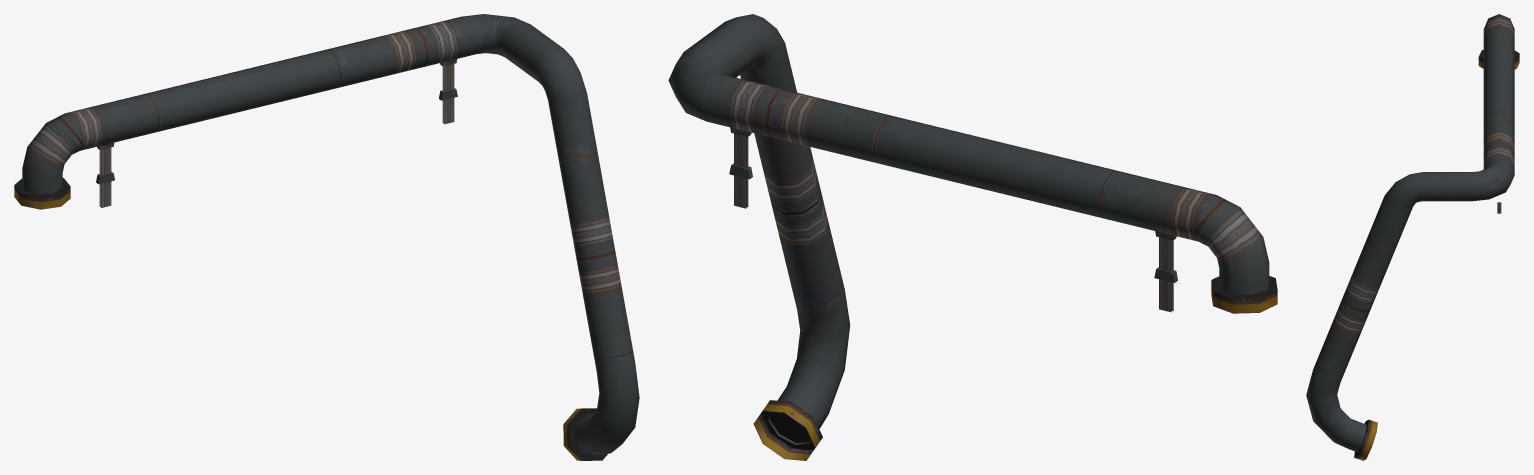
Rendered from Wall3_Pipe2_L1.fbx.
3 views of the same model, side by side, from view 1: azimuth 30°, elevation 25°; view 2: azimuth 150°, elevation 25°; view 3: azimuth 270°, elevation 25° (orthographic). The views are drawn at different scales.
Parts seen in each view (by area): view 1: Wall3_Pipe2_L1; view 2: Wall3_Pipe2_L1; view 3: Wall3_Pipe2_L1.
Part boxes in pixels (<box>): Wall3_Pipe2_L1: <box>14,14,639,460</box>; Wall3_Pipe2_L1: <box>668,14,1277,460</box>; Wall3_Pipe2_L1: <box>1306,14,1519,460</box>.
Bounding box in the file's own units: 348 × 254 × 171.
